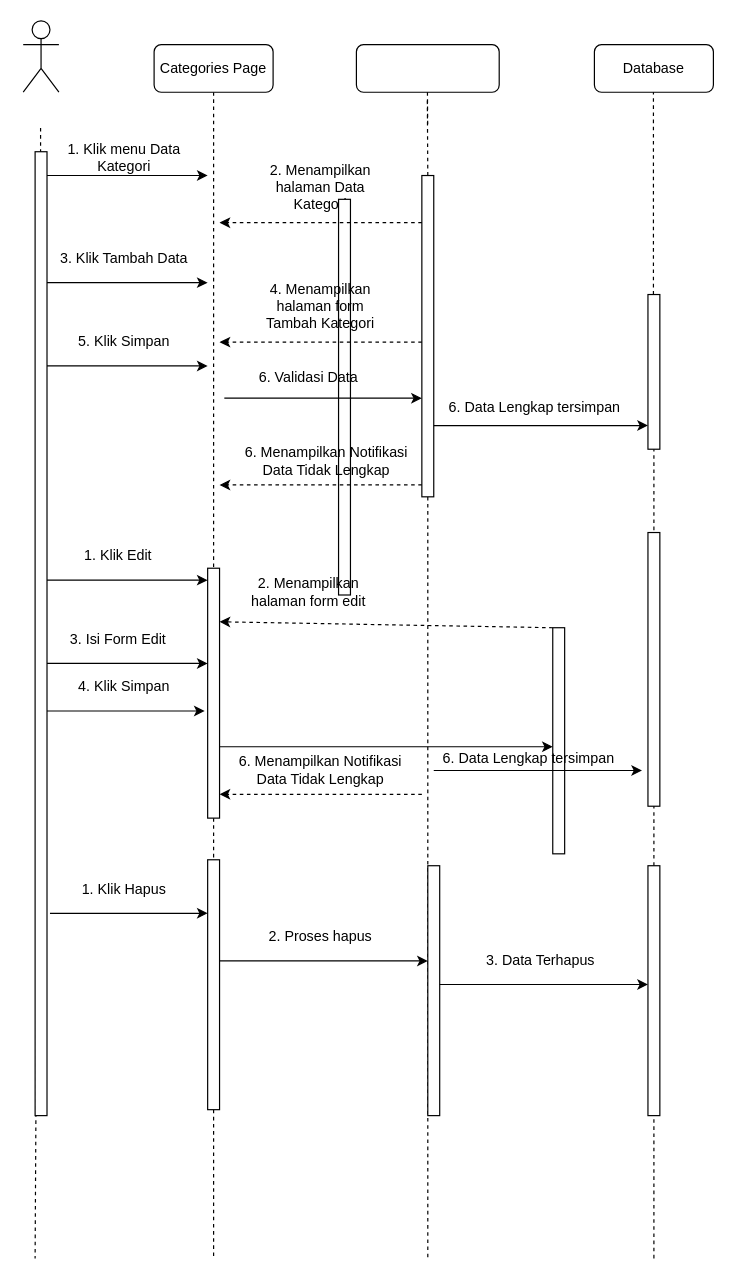
The diagram is 734 pixels wide and 1280 high, and some of its shapes have lost their labels. The centre of each missing label's shape, as x and y in pixels:
Admin: (40,56)
Sistem: (427,67)
